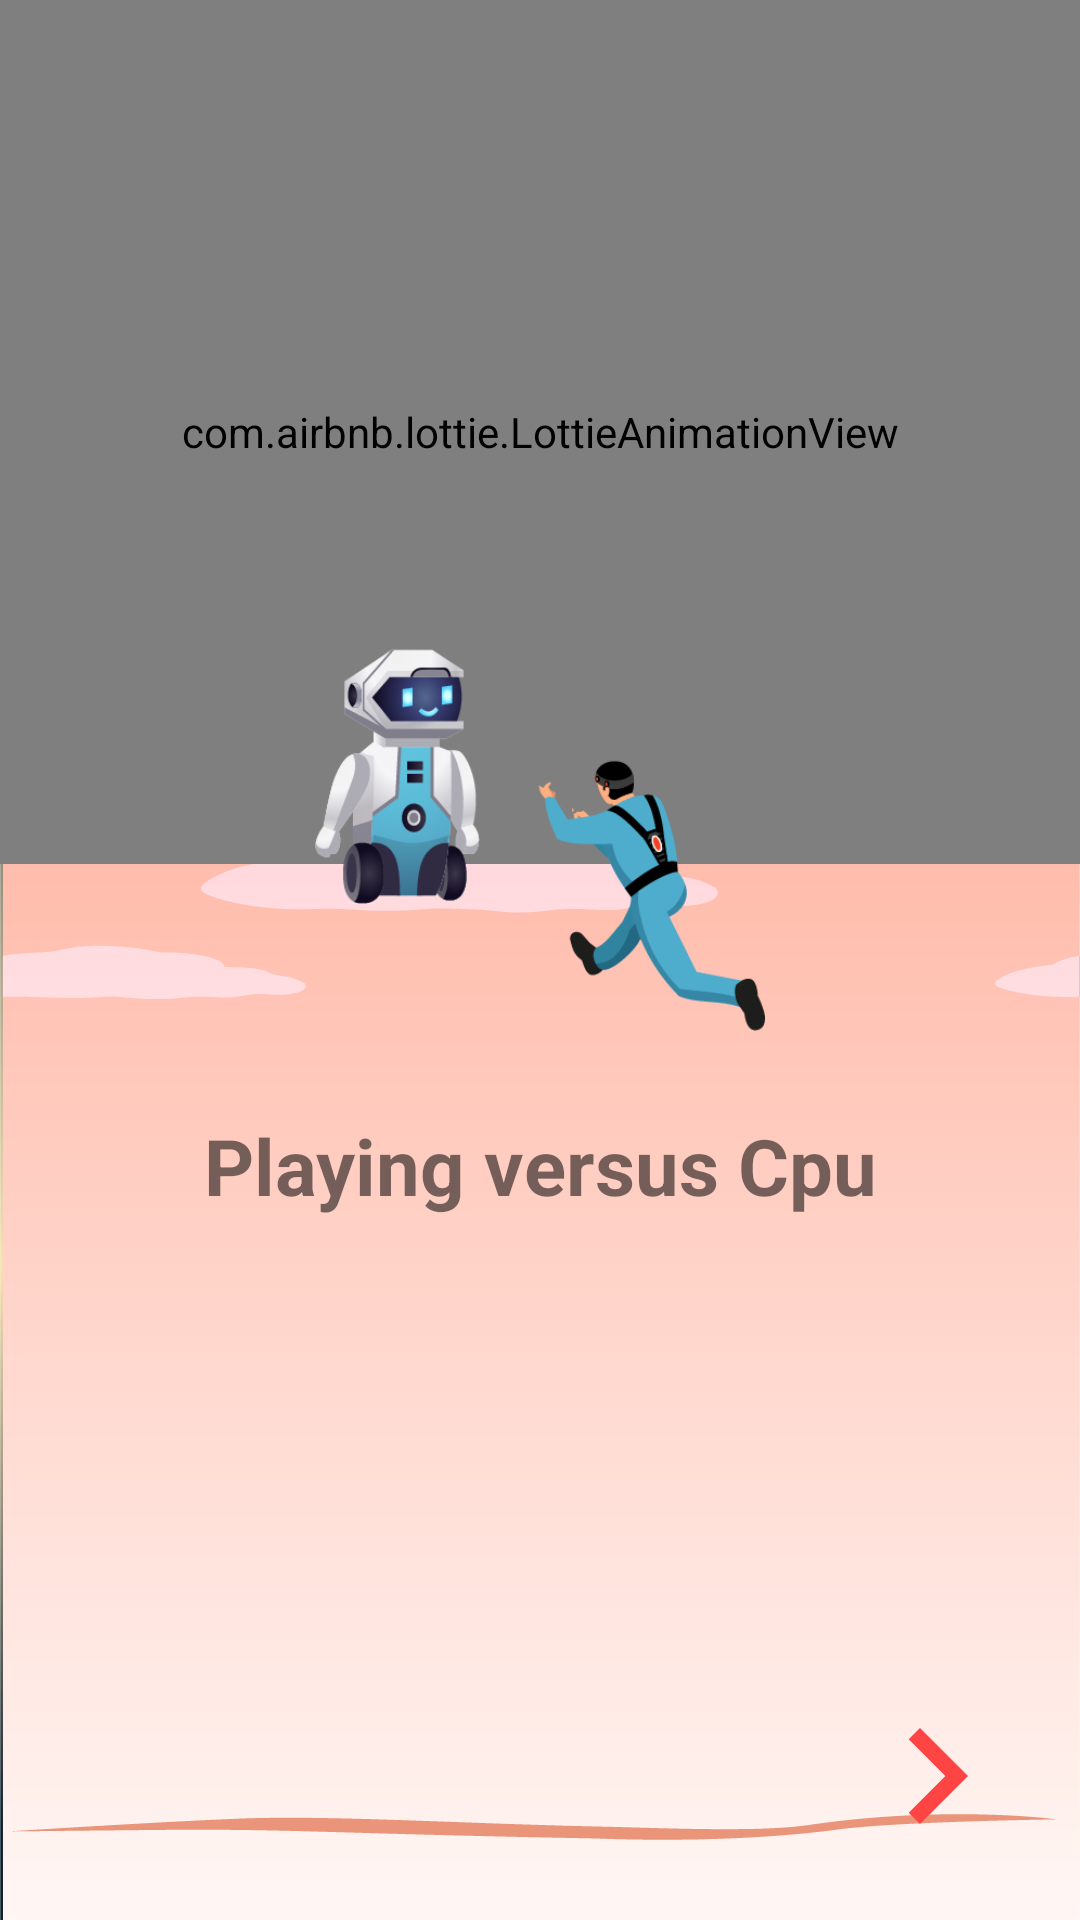

Icons on this 1080x1920 Android screen, each with the point to tap as point (x, y):
Button next: point (936, 1778)
